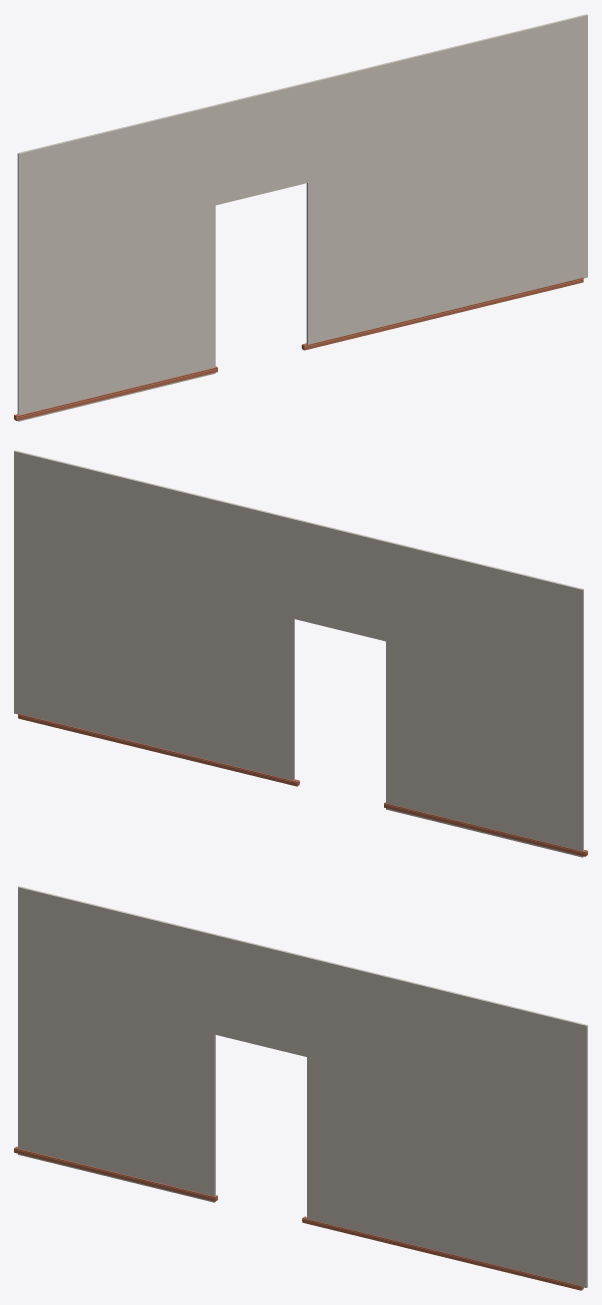
The model's file is ParedePortaBanheiro.fbx.
The picture shows the model from 3 angles, top to bottom: view 1: azimuth 30°, elevation 25°; view 2: azimuth 150°, elevation 25°; view 3: azimuth 330°, elevation 25°; orthographic projection.
Parts seen in each view (by area): view 1: Cube.017, Cube.047, Cube.046; view 2: Cube.017, Cube.047, Cube.046; view 3: Cube.017, Cube.047, Cube.046.
Part boxes in pixels (<box>): Cube.017: <box>17,14,587,421</box>; Cube.047: <box>301,277,583,350</box>; Cube.046: <box>14,366,217,420</box>; Cube.017: <box>14,450,583,857</box>; Cube.047: <box>18,713,299,786</box>; Cube.046: <box>384,802,587,856</box>; Cube.017: <box>18,886,587,1287</box>; Cube.047: <box>302,1216,583,1290</box>; Cube.046: <box>14,1146,217,1201</box>.
Bounding box in the file's own units: 1178 × 527 × 9.58.
